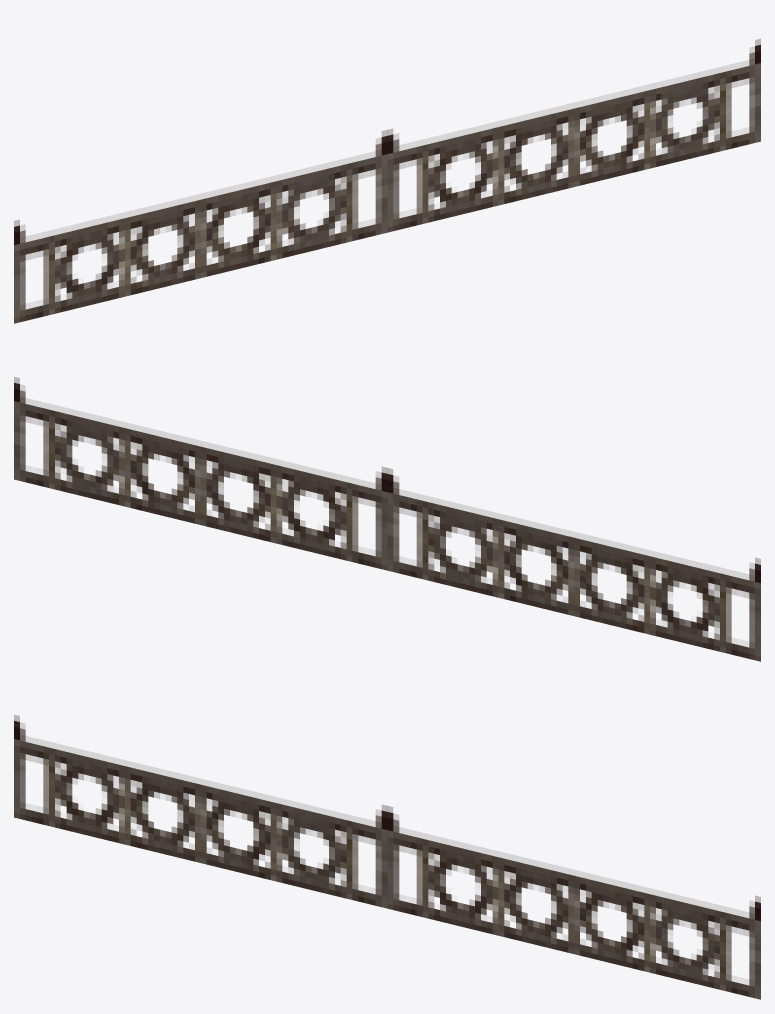
File: fence-top.glb
The picture shows the model from 3 angles, top to bottom: view 1: azimuth 30°, elevation 25°; view 2: azimuth 150°, elevation 25°; view 3: azimuth 330°, elevation 25°; orthographic projection.
Visible parts, largest first — view 1: fence-top; view 2: fence-top; view 3: fence-top.
Boxes of the visible parts, x1=… form: fence-top: x1=14, y1=39, x2=760, y2=323; fence-top: x1=14, y1=377, x2=760, y2=661; fence-top: x1=14, y1=715, x2=760, y2=999.
Bounding box in the file's own units: 1 × 0.1629 × 9.02e-16.
Materials: 1 (1 with a texture image).
